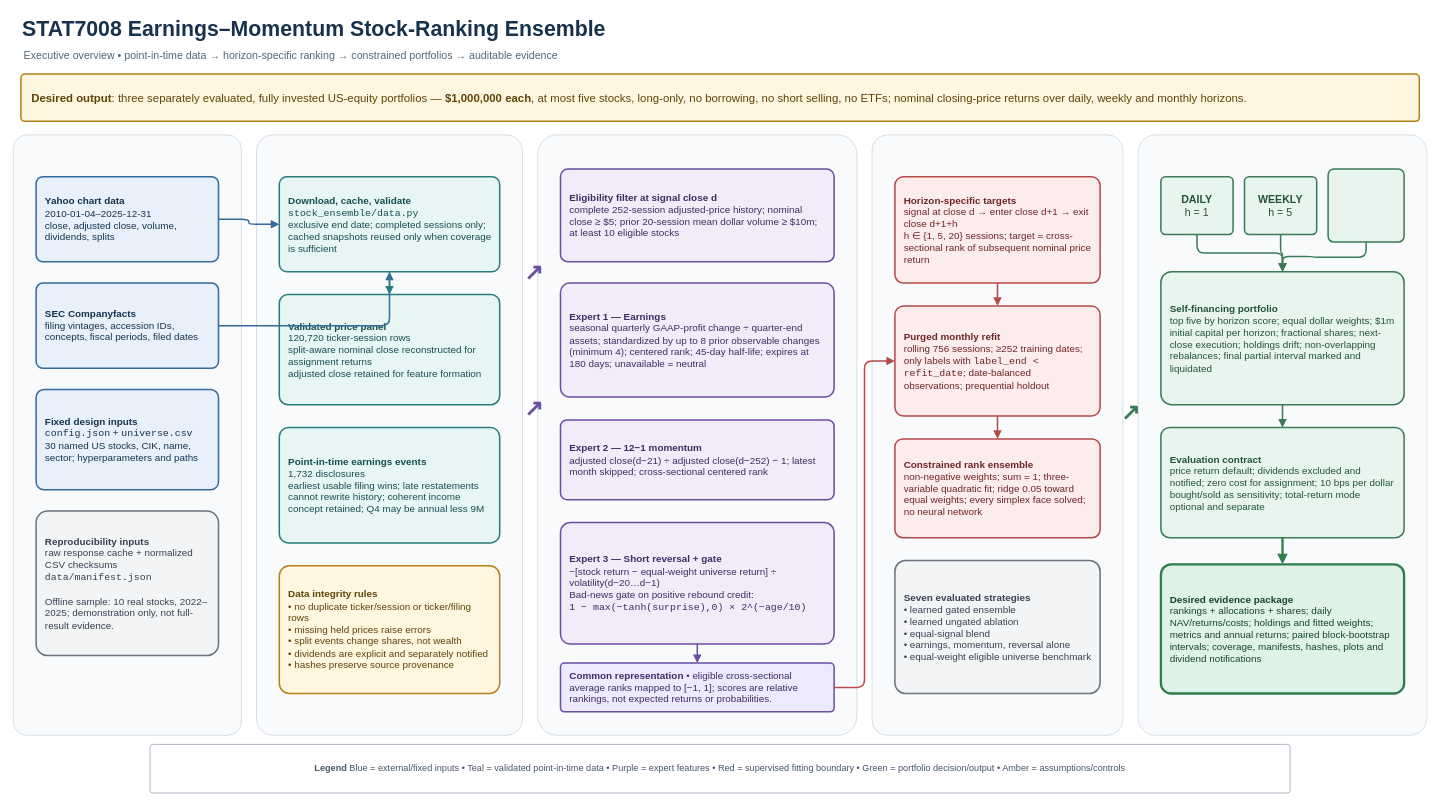
This 1440x806 diagram has some shape labels left out. Here are the shapes that lost their labels. From the top down, the box of each, then its label:
(1327, 168, 1404, 242): MONTHLY h = 20 proxy 19 exact in 2026
(13, 134, 241, 735): 1 • INPUTS
(256, 134, 522, 735): 2 • POINT-IN-TIME DATA
(537, 134, 857, 735): 3 • EXPERT FEATURES
(871, 134, 1123, 735): 4 • LABELS & MODEL
(1137, 134, 1427, 735): 5 • DECISION & EVIDENCE
